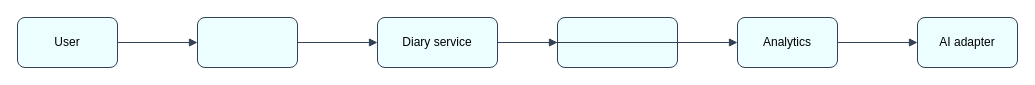
This 1035x85 diagram has some shape labels left out. The shapes that lost their labels are listed below. From the top down, each one's centre as x and y in pixels, then its label:
the point at 247,42: Web UI
the point at 617,42: EntryRepository
